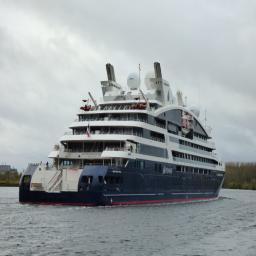cruises: (18, 62, 228, 209)
